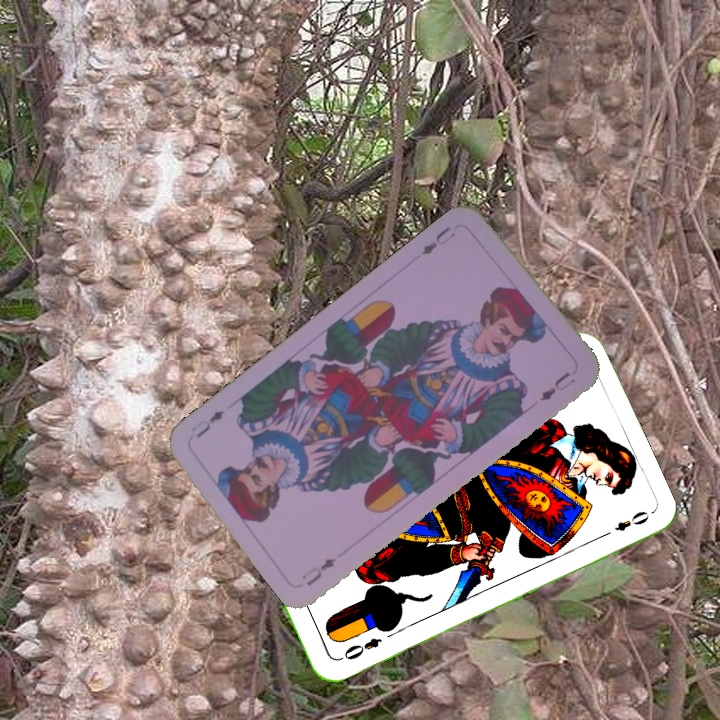EO: (334, 633, 385, 664)
EU: (417, 222, 458, 258), (297, 554, 339, 589)
